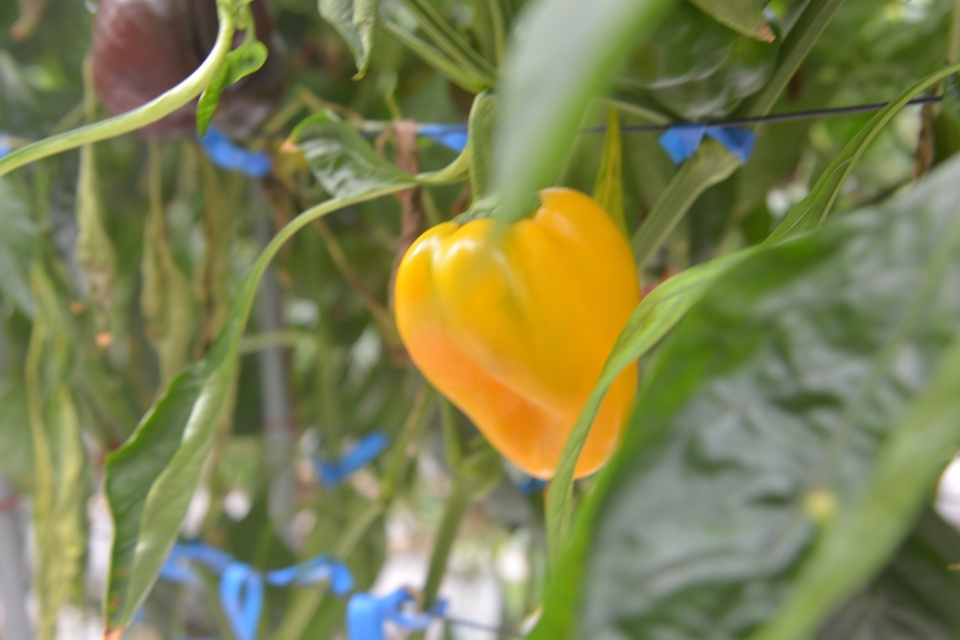fruit: (388, 189, 645, 484), (80, 2, 298, 152)
pedicle: (452, 194, 542, 220)
